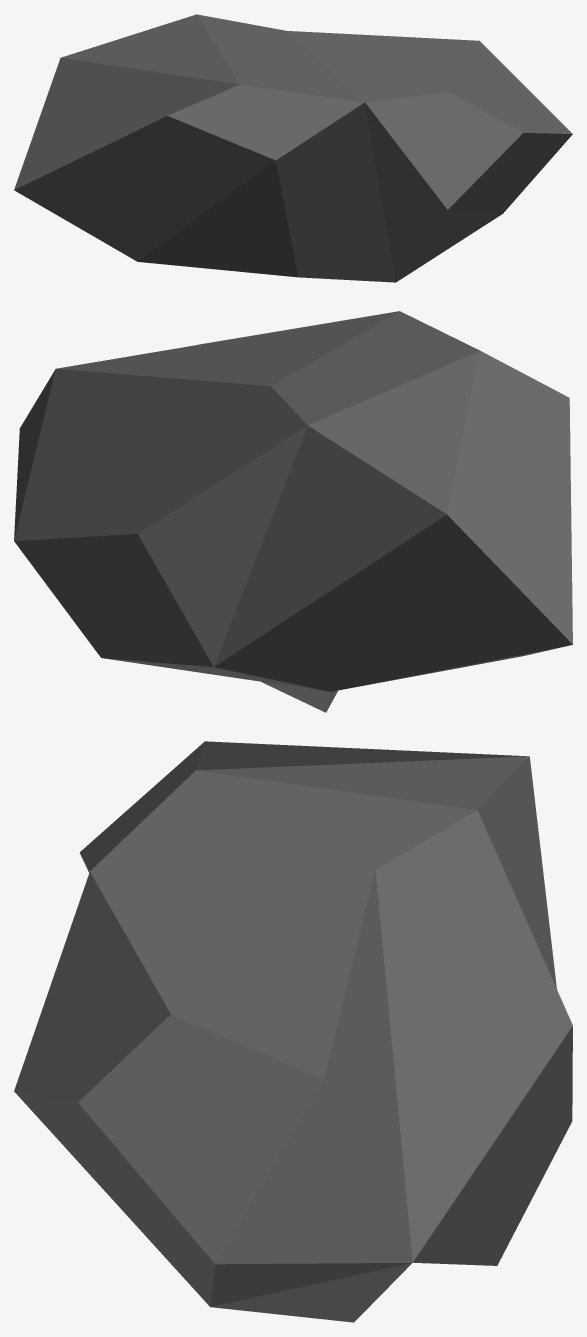
The model's file is SmallStone.FBX.
3 views of the same model, one above another, from view 1: azimuth 30°, elevation 25°; view 2: azimuth 150°, elevation 25°; view 3: azimuth 270°, elevation 25° (orthographic). The views are drawn at different scales.
Visible parts, largest first — view 1: Object006; view 2: Object006; view 3: Object006.
Boxes of the visible parts, left/top/right/bottom form: Object006: left=14, top=14, right=572, bottom=282; Object006: left=14, top=311, right=572, bottom=712; Object006: left=14, top=741, right=572, bottom=1322.
Size of the model in its own units: 79.73 by 36.77 by 48.5.
Materials: 1 (1 with a texture image).
